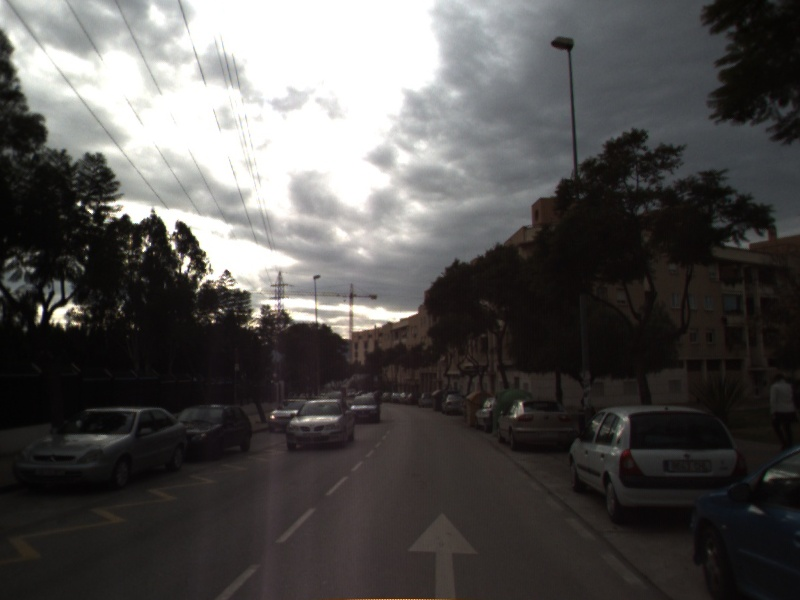STRAIGHT: (405, 510, 482, 600)
